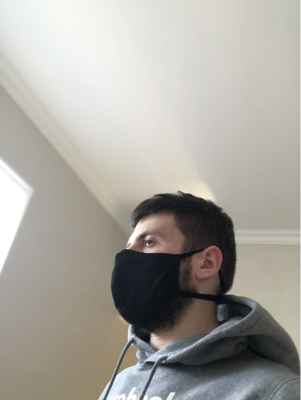with_mask: (111, 226, 194, 331)
